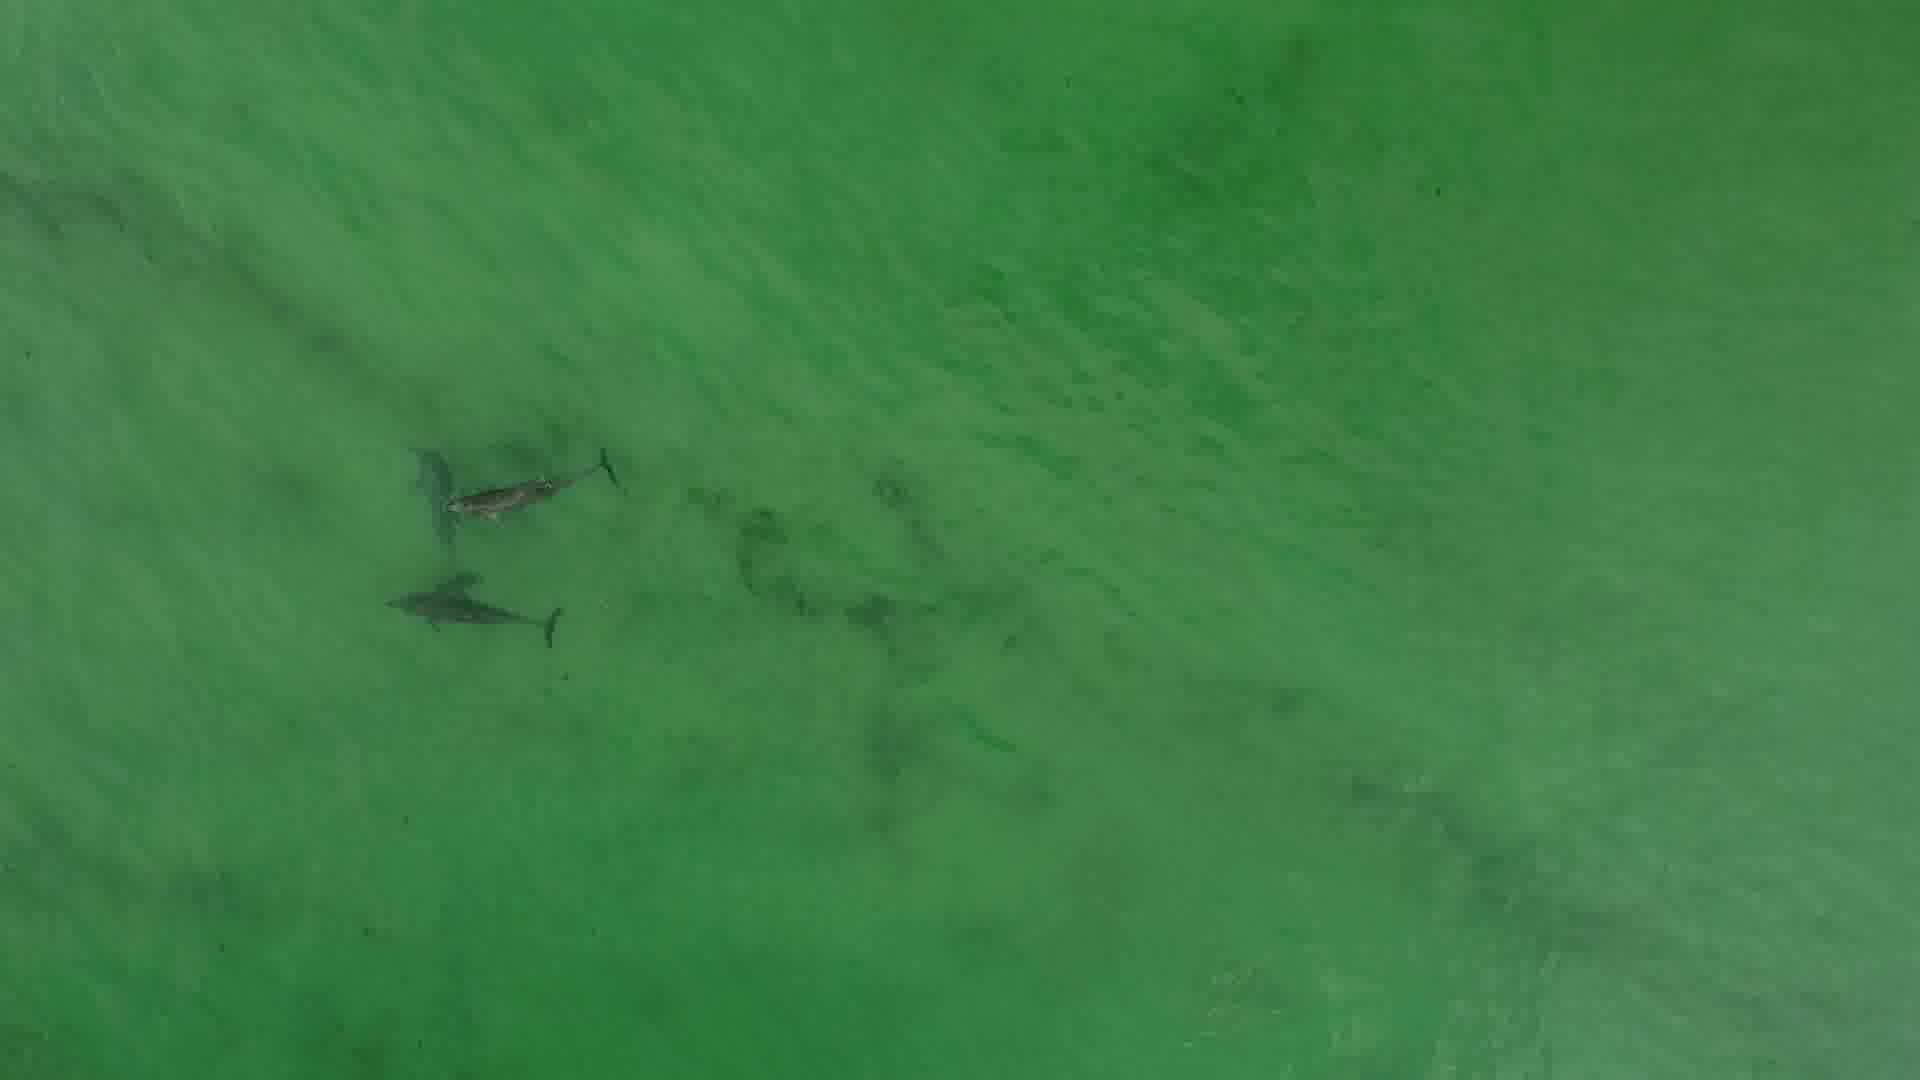dolphin: (376, 560, 597, 661), (429, 458, 638, 527)
